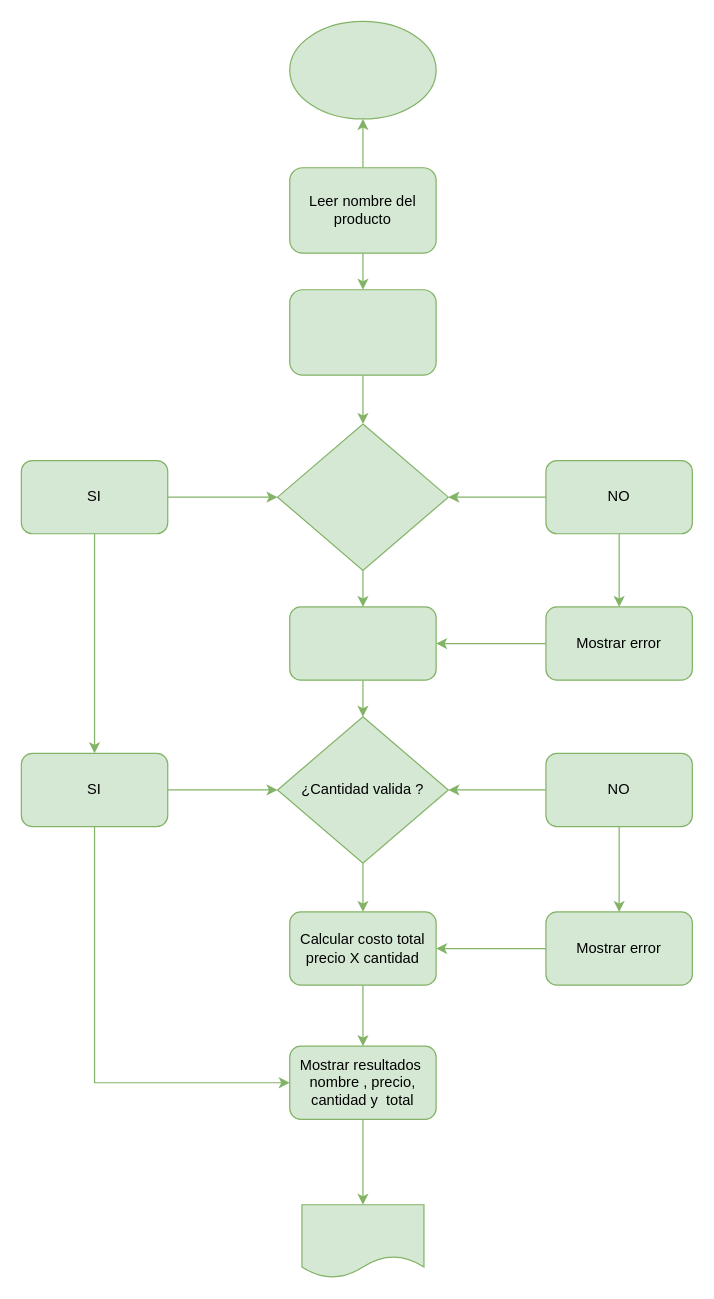
Some shapes in this 714 by 1299 pixel diagram are drawn without their labels. Each missing label, with the centre of its shape:
"FIN" belongs at point 362,1241.
"ingresar la cantidad" belongs at point 362,643.
"Ingresar precio del producto" belongs at point 362,332.
"Inicio" belongs at point 362,69.
"¿Precio valido ?" belongs at point 362,496.
